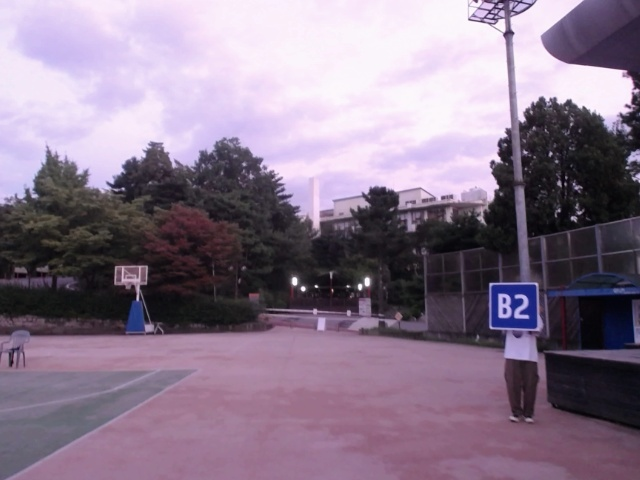delivery_b2: (489, 282, 538, 331)
